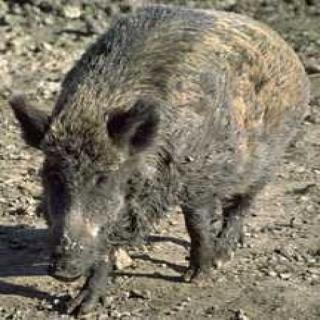Pig: (18, 7, 297, 282)
